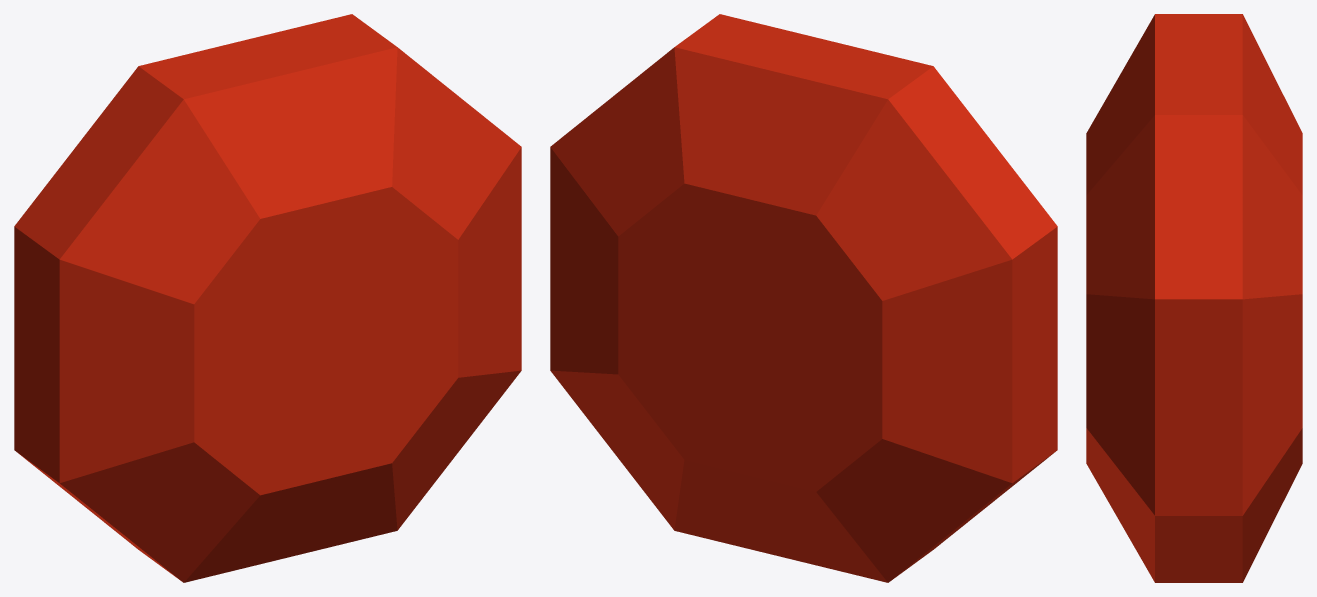
The picture shows the model from 3 angles, left to right: view 1: azimuth 30°, elevation 25°; view 2: azimuth 150°, elevation 25°; view 3: azimuth 270°, elevation 25°; orthographic projection. The views are drawn at different scales.
Parts seen in each view (by area): view 1: GemaVermelha01; view 2: GemaVermelha01; view 3: GemaVermelha01.
Part boxes in pixels (x1,y1,x2,y2): GemaVermelha01: (14, 14, 521, 582); GemaVermelha01: (550, 14, 1057, 582); GemaVermelha01: (1086, 14, 1302, 582).
Bounding box in the file's own units: 54.96 × 54.96 × 23.05.
